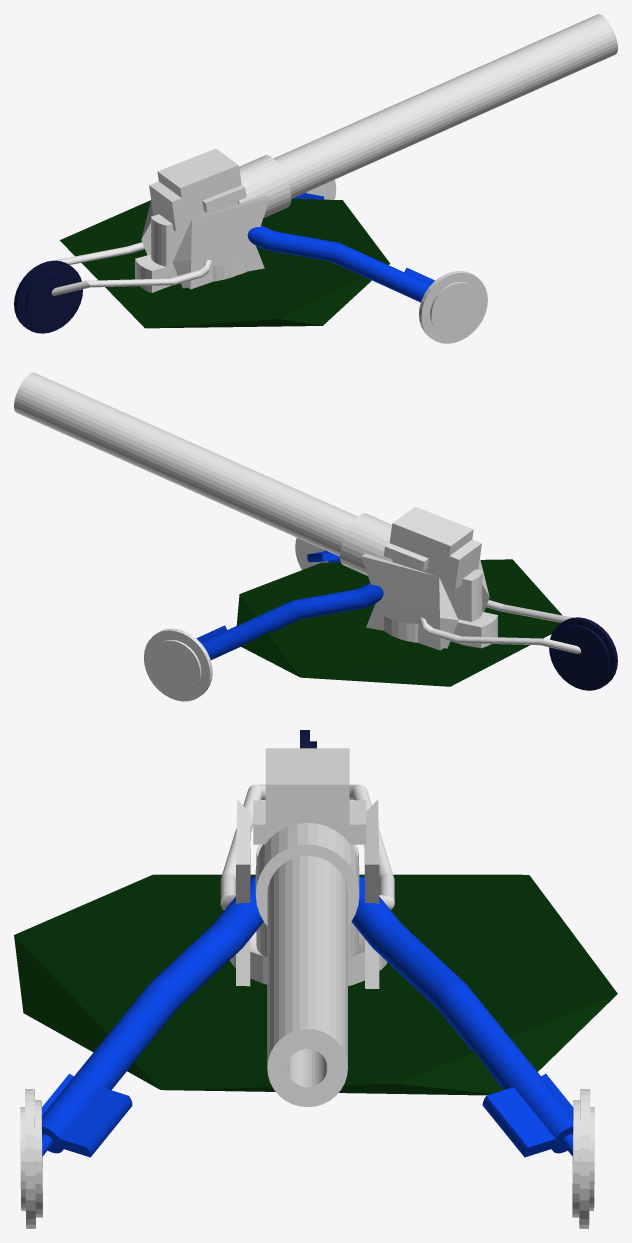
3 renders of one model, top to bottom at view 1: azimuth 30°, elevation 25°; view 2: azimuth 150°, elevation 25°; view 3: azimuth 270°, elevation 25°, orthographic. The views are drawn at different scales.
Parts seen in each view (by area): view 1: 円柱.002, 円柱.004, 立方体.001, 立方体.002, 円柱, 円柱.005, 円柱.001, 円柱.003, 円柱.006; view 2: 円柱.002, 円柱.004, 立方体.001, 立方体.002, 円柱, 円柱.005, 円柱.001, 円柱.003, 円柱.006; view 3: 円柱.002, 円柱.005, 円柱.004, 立方体.002, 円柱, 立方体.001, 円柱.006, 円柱.003.
Part boxes in pixels (x1,y1,x2,y2): 円柱.002: (60,199,390,328); 円柱.004: (237,14,617,217); 立方体.001: (141,195,269,289); 立方体.002: (149,148,246,231); 円柱: (306,180,487,343); 円柱.005: (247,192,435,302); 円柱.001: (14,260,82,333); 円柱.003: (135,214,247,292); 円柱.006: (51,242,212,295); 円柱.002: (236,559,562,686); 円柱.004: (14,372,393,575); 立方体.001: (361,553,489,650); 立方体.002: (383,506,481,589); 円柱: (144,538,328,701); 円柱.005: (196,550,383,659); 円柱.001: (549,617,617,690); 円柱.003: (384,569,497,648); 円柱.006: (419,600,581,653); 円柱.002: (14,874,617,1095); 円柱.005: (42,876,573,1157); 円柱.004: (255,822,359,1107); 立方体.002: (253,748,366,844); 円柱: (20,1089,594,1228); 立方体.001: (236,799,379,988); 円柱.006: (220,784,394,909); 円柱.003: (230,844,387,985).
Size of the model in its own units: 433 by 150 by 208.
